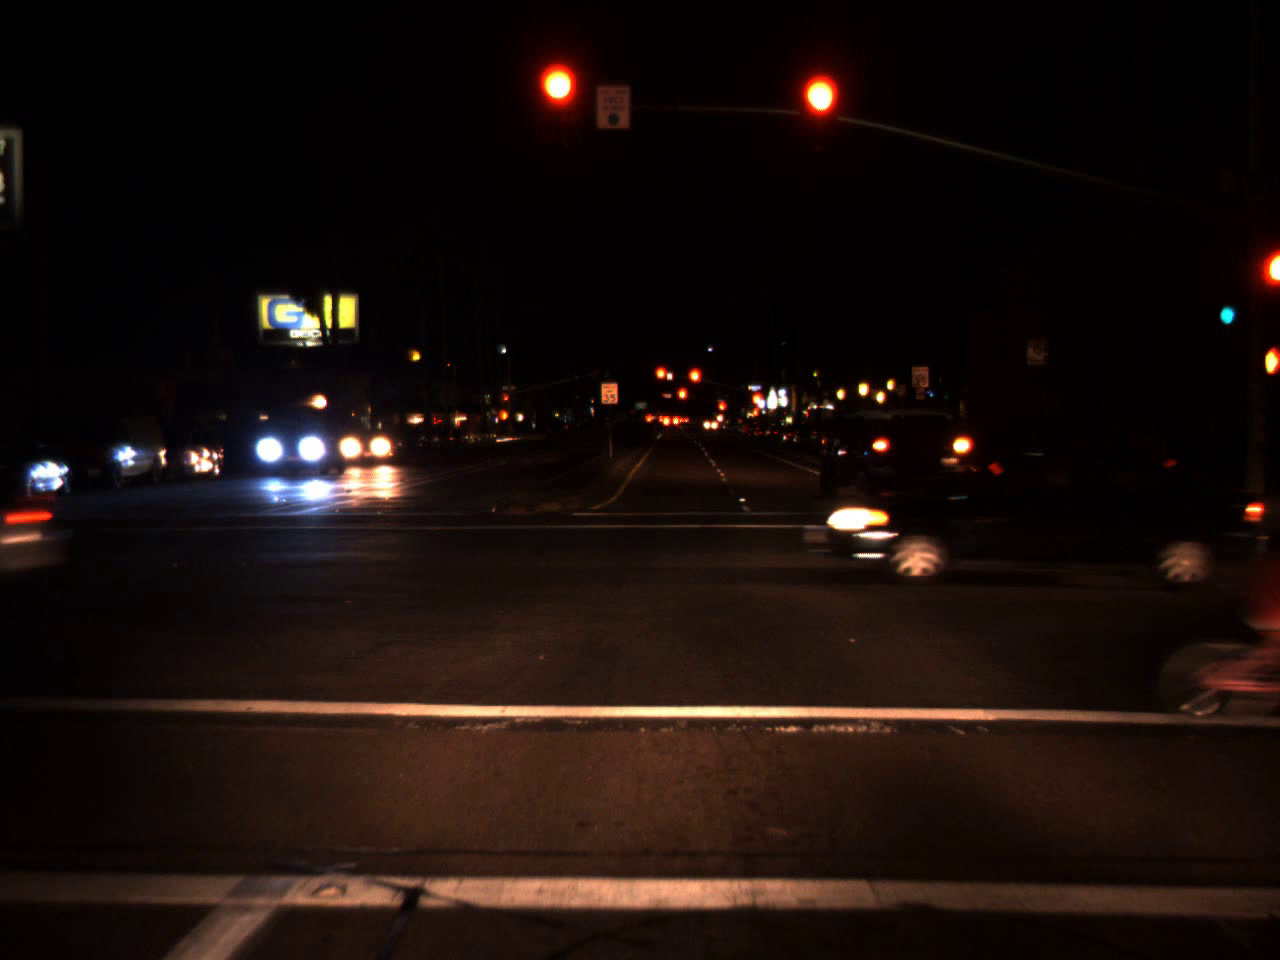stop: (538, 64, 577, 142), (801, 74, 837, 152), (687, 367, 702, 399), (653, 365, 668, 392), (750, 391, 763, 418), (677, 385, 689, 412), (717, 400, 727, 421), (503, 395, 509, 405)
